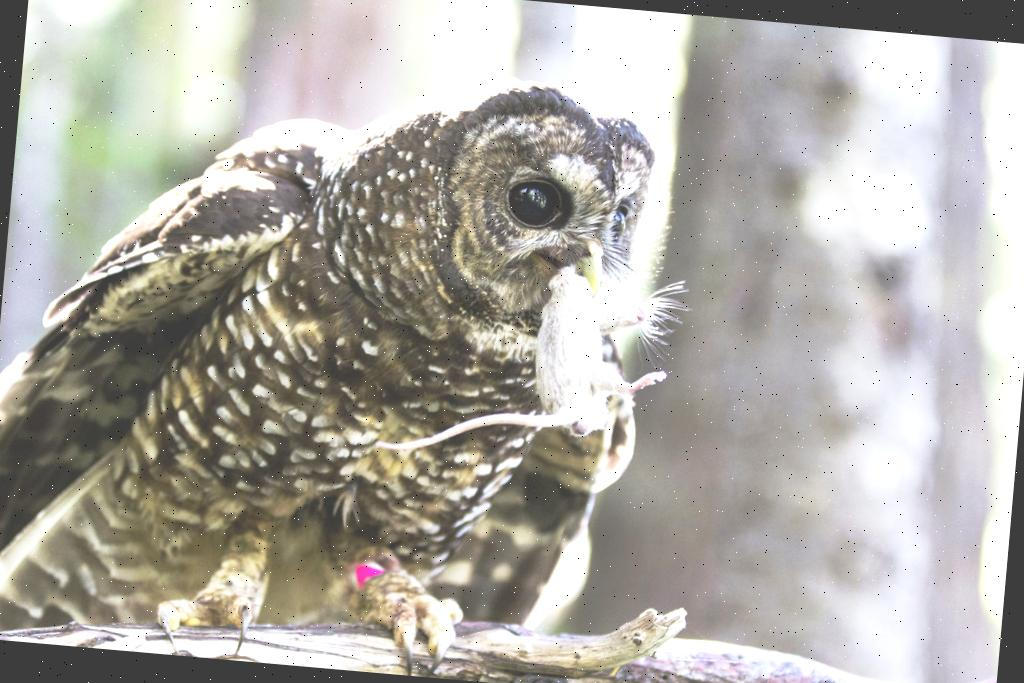Owl: (0, 31, 710, 683)
